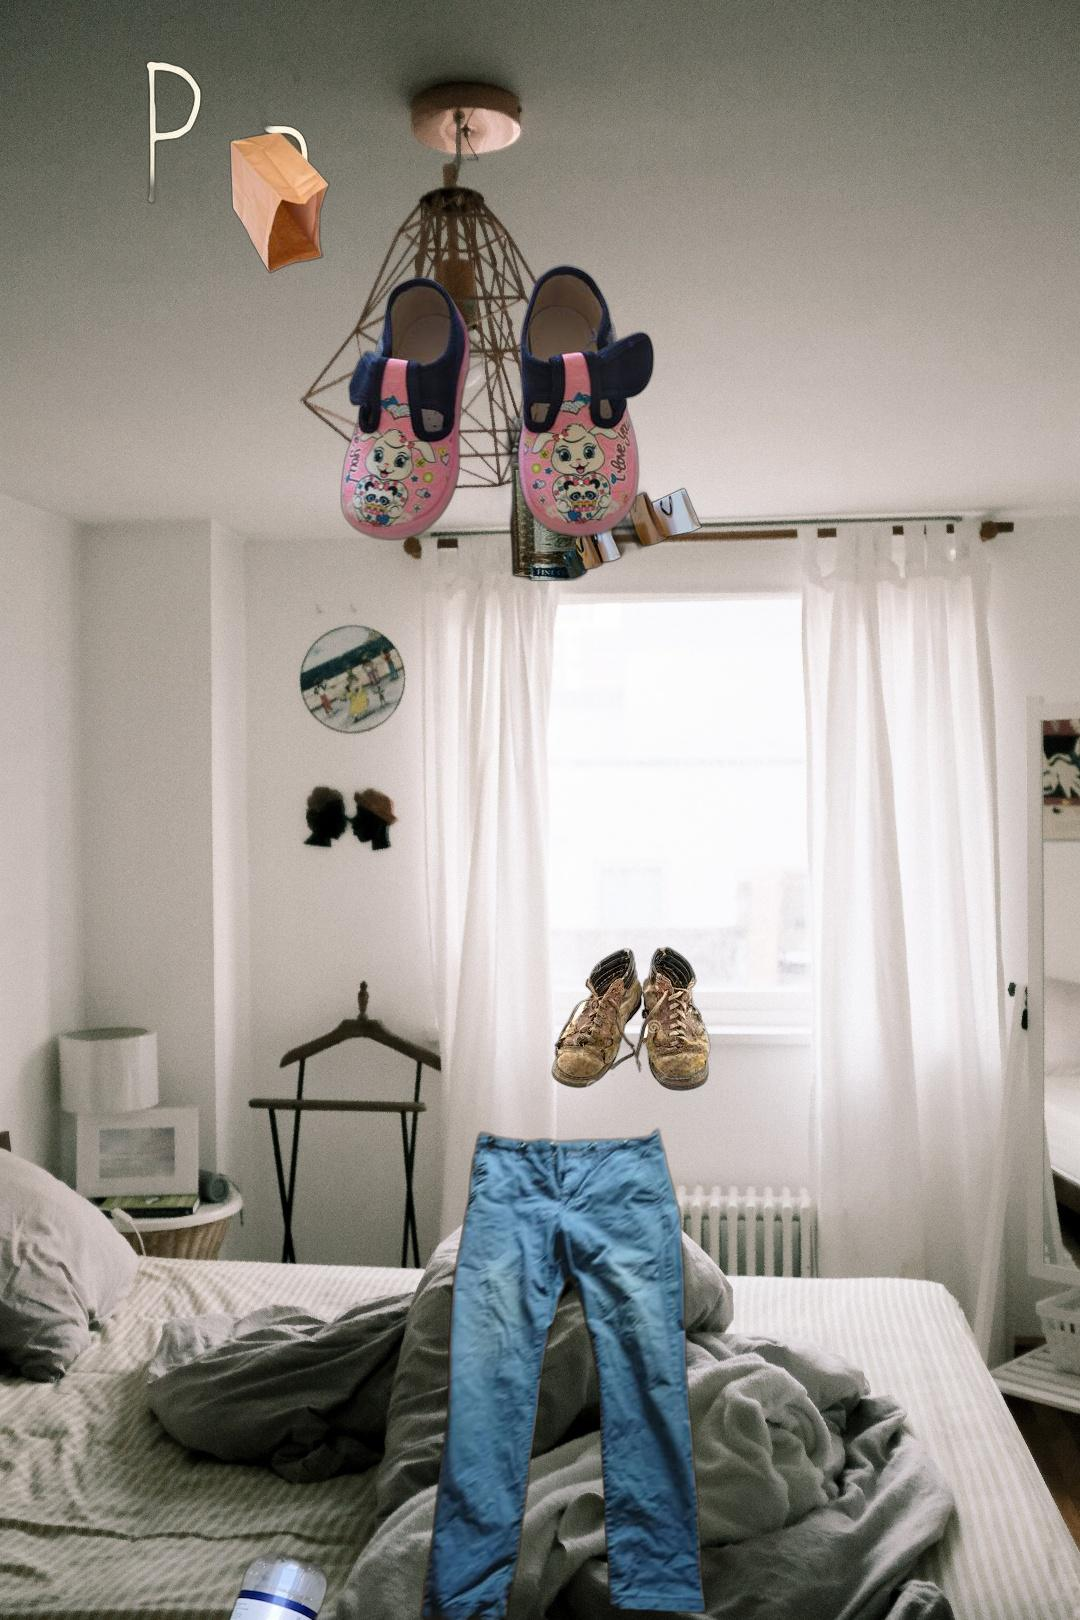clothes: (417, 1123, 709, 1620)
paper-bag: (59, 55, 331, 298), (464, 360, 705, 624)
plastic-bottles: (198, 1546, 331, 1620)
shoes: (337, 262, 657, 545), (548, 944, 714, 1094)
